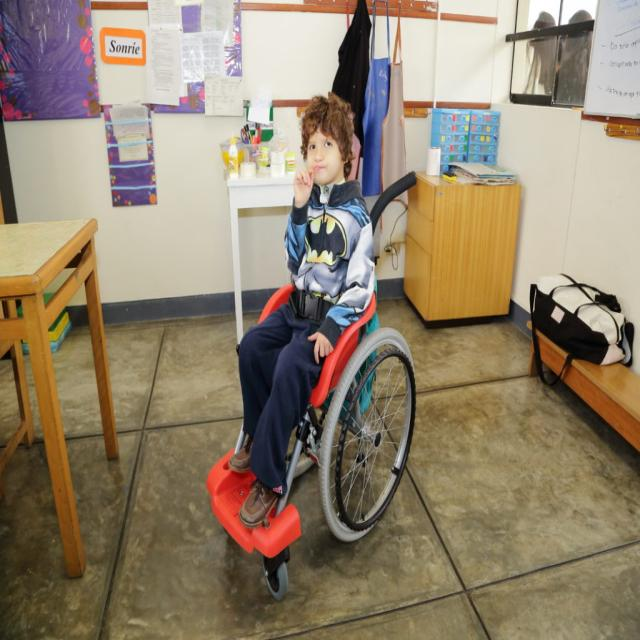wheelchairs: (196, 207, 434, 602)
